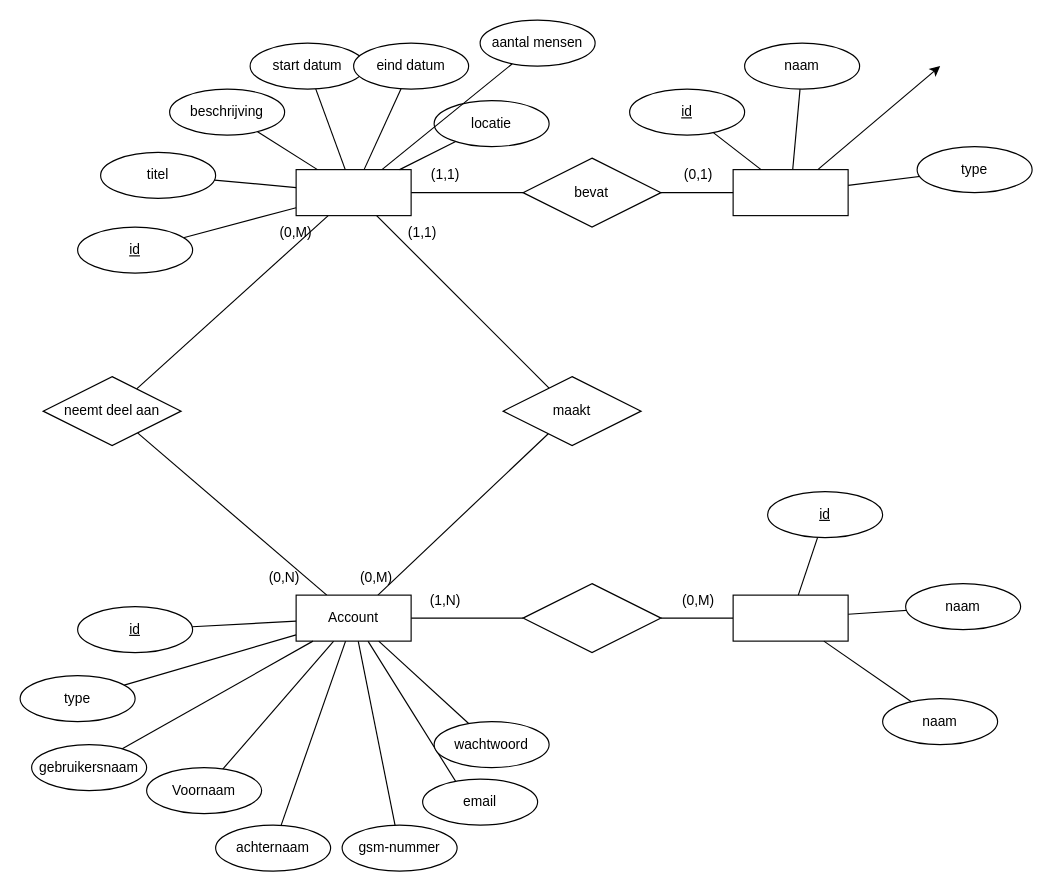
Image size: 1052x891. Some labels were removed from this diagram. The box of each missing label's shape, as (x1, y1, x2, y2) in pixels:
activiteit: (732, 168, 848, 216)
event: (295, 168, 411, 216)
heeft: (522, 582, 661, 653)
interesse: (732, 594, 848, 641)
